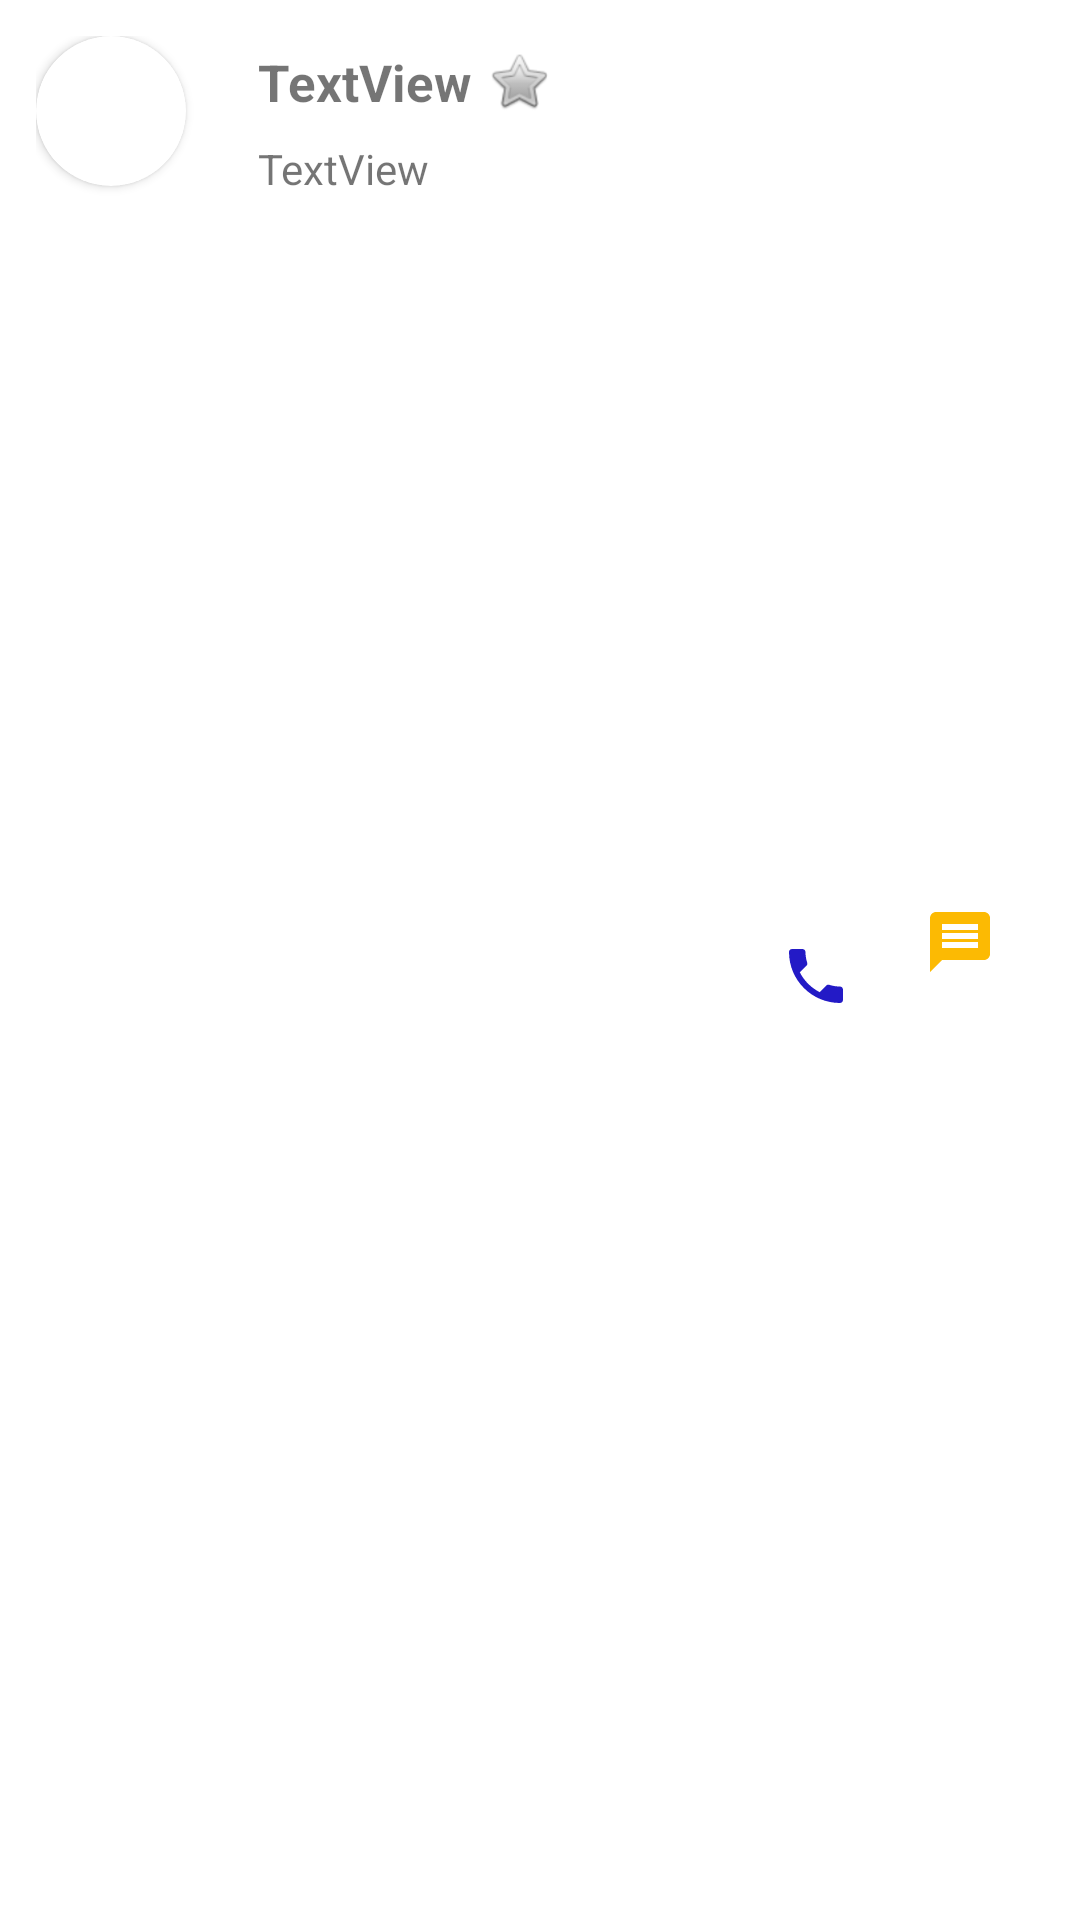

Icons on this 1080w x 1920h Android screen, each with the point to tap as (x,y):
local phone: (816,976)
message: (960,942)
star: (519,81)
